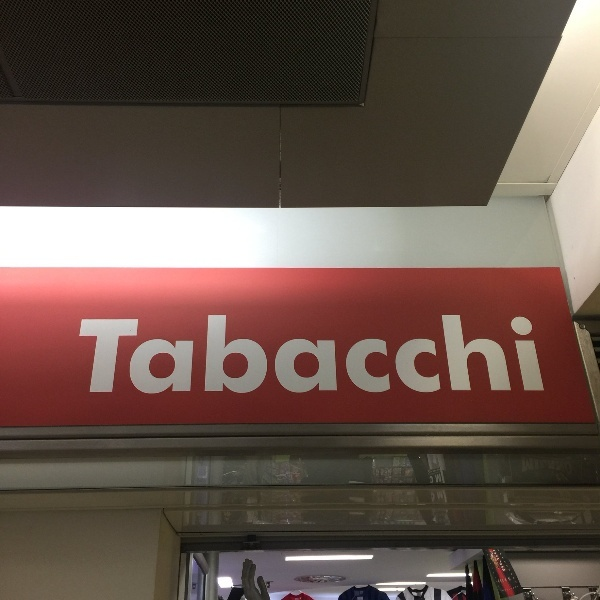text: (81, 314, 96, 398), (97, 314, 112, 398), (113, 314, 128, 398), (129, 314, 144, 398), (145, 314, 160, 398), (161, 314, 176, 398), (177, 314, 192, 398), (193, 314, 208, 398), (209, 314, 224, 398), (225, 314, 240, 398), (241, 314, 256, 398), (257, 314, 272, 398), (273, 314, 288, 398), (289, 314, 304, 398), (305, 314, 320, 398), (321, 314, 336, 398), (337, 314, 352, 398), (353, 314, 368, 398), (369, 314, 384, 398), (385, 314, 400, 398), (401, 314, 416, 398), (417, 314, 432, 398), (433, 314, 448, 398), (449, 314, 464, 398), (465, 314, 480, 398), (481, 314, 496, 398), (497, 314, 512, 398), (513, 314, 528, 398), (529, 314, 544, 398), (497, 549, 507, 574), (545, 314, 547, 398), (433, 491, 444, 503), (433, 474, 442, 485), (495, 549, 496, 574), (430, 474, 432, 485), (431, 491, 432, 503)
